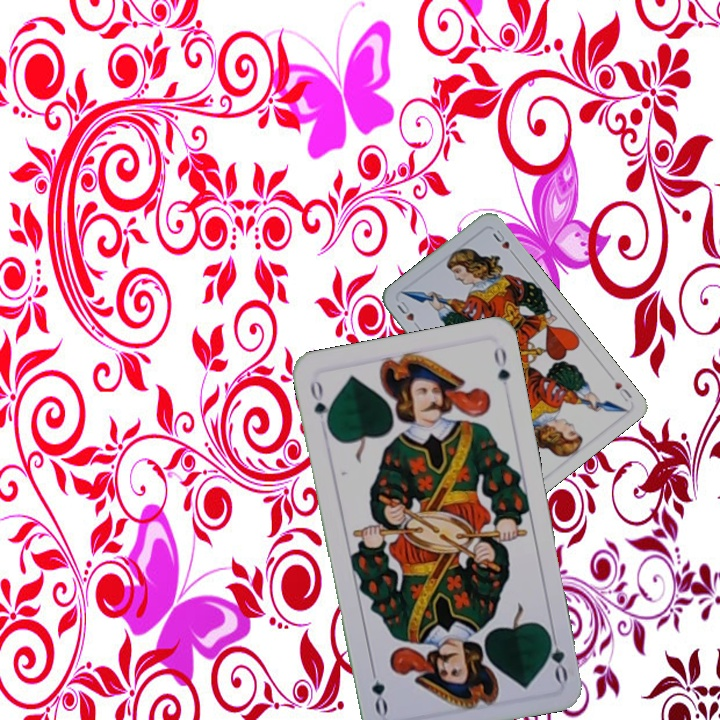GO: (542, 625, 571, 685), (306, 375, 333, 433)
HU: (393, 297, 423, 331), (610, 377, 634, 404)
